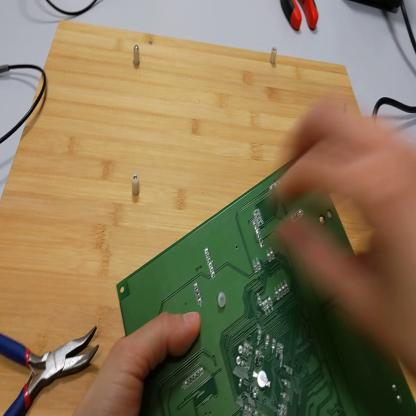hand: (272, 104, 416, 374), (73, 311, 201, 416)
low voltage board: (116, 154, 416, 414)
pliers: (2, 320, 99, 416), (280, 3, 319, 33)
welder station: (352, 2, 404, 14)
working area: (2, 22, 416, 413)
